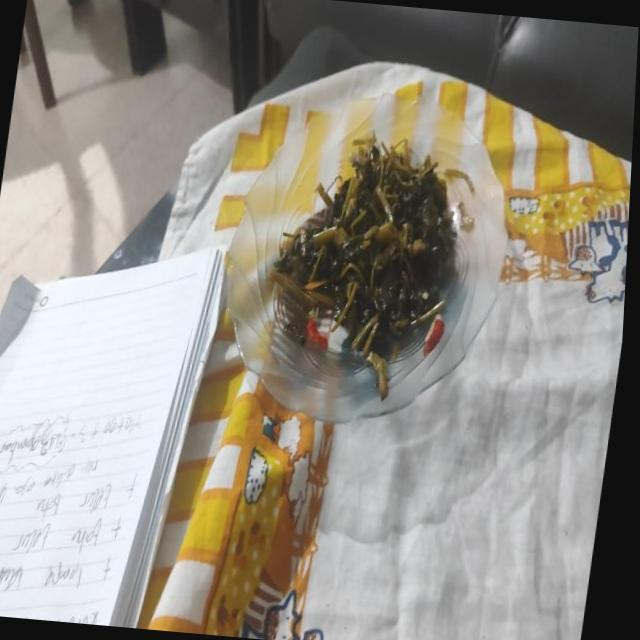tumis_kangkung: (275, 133, 456, 382)
